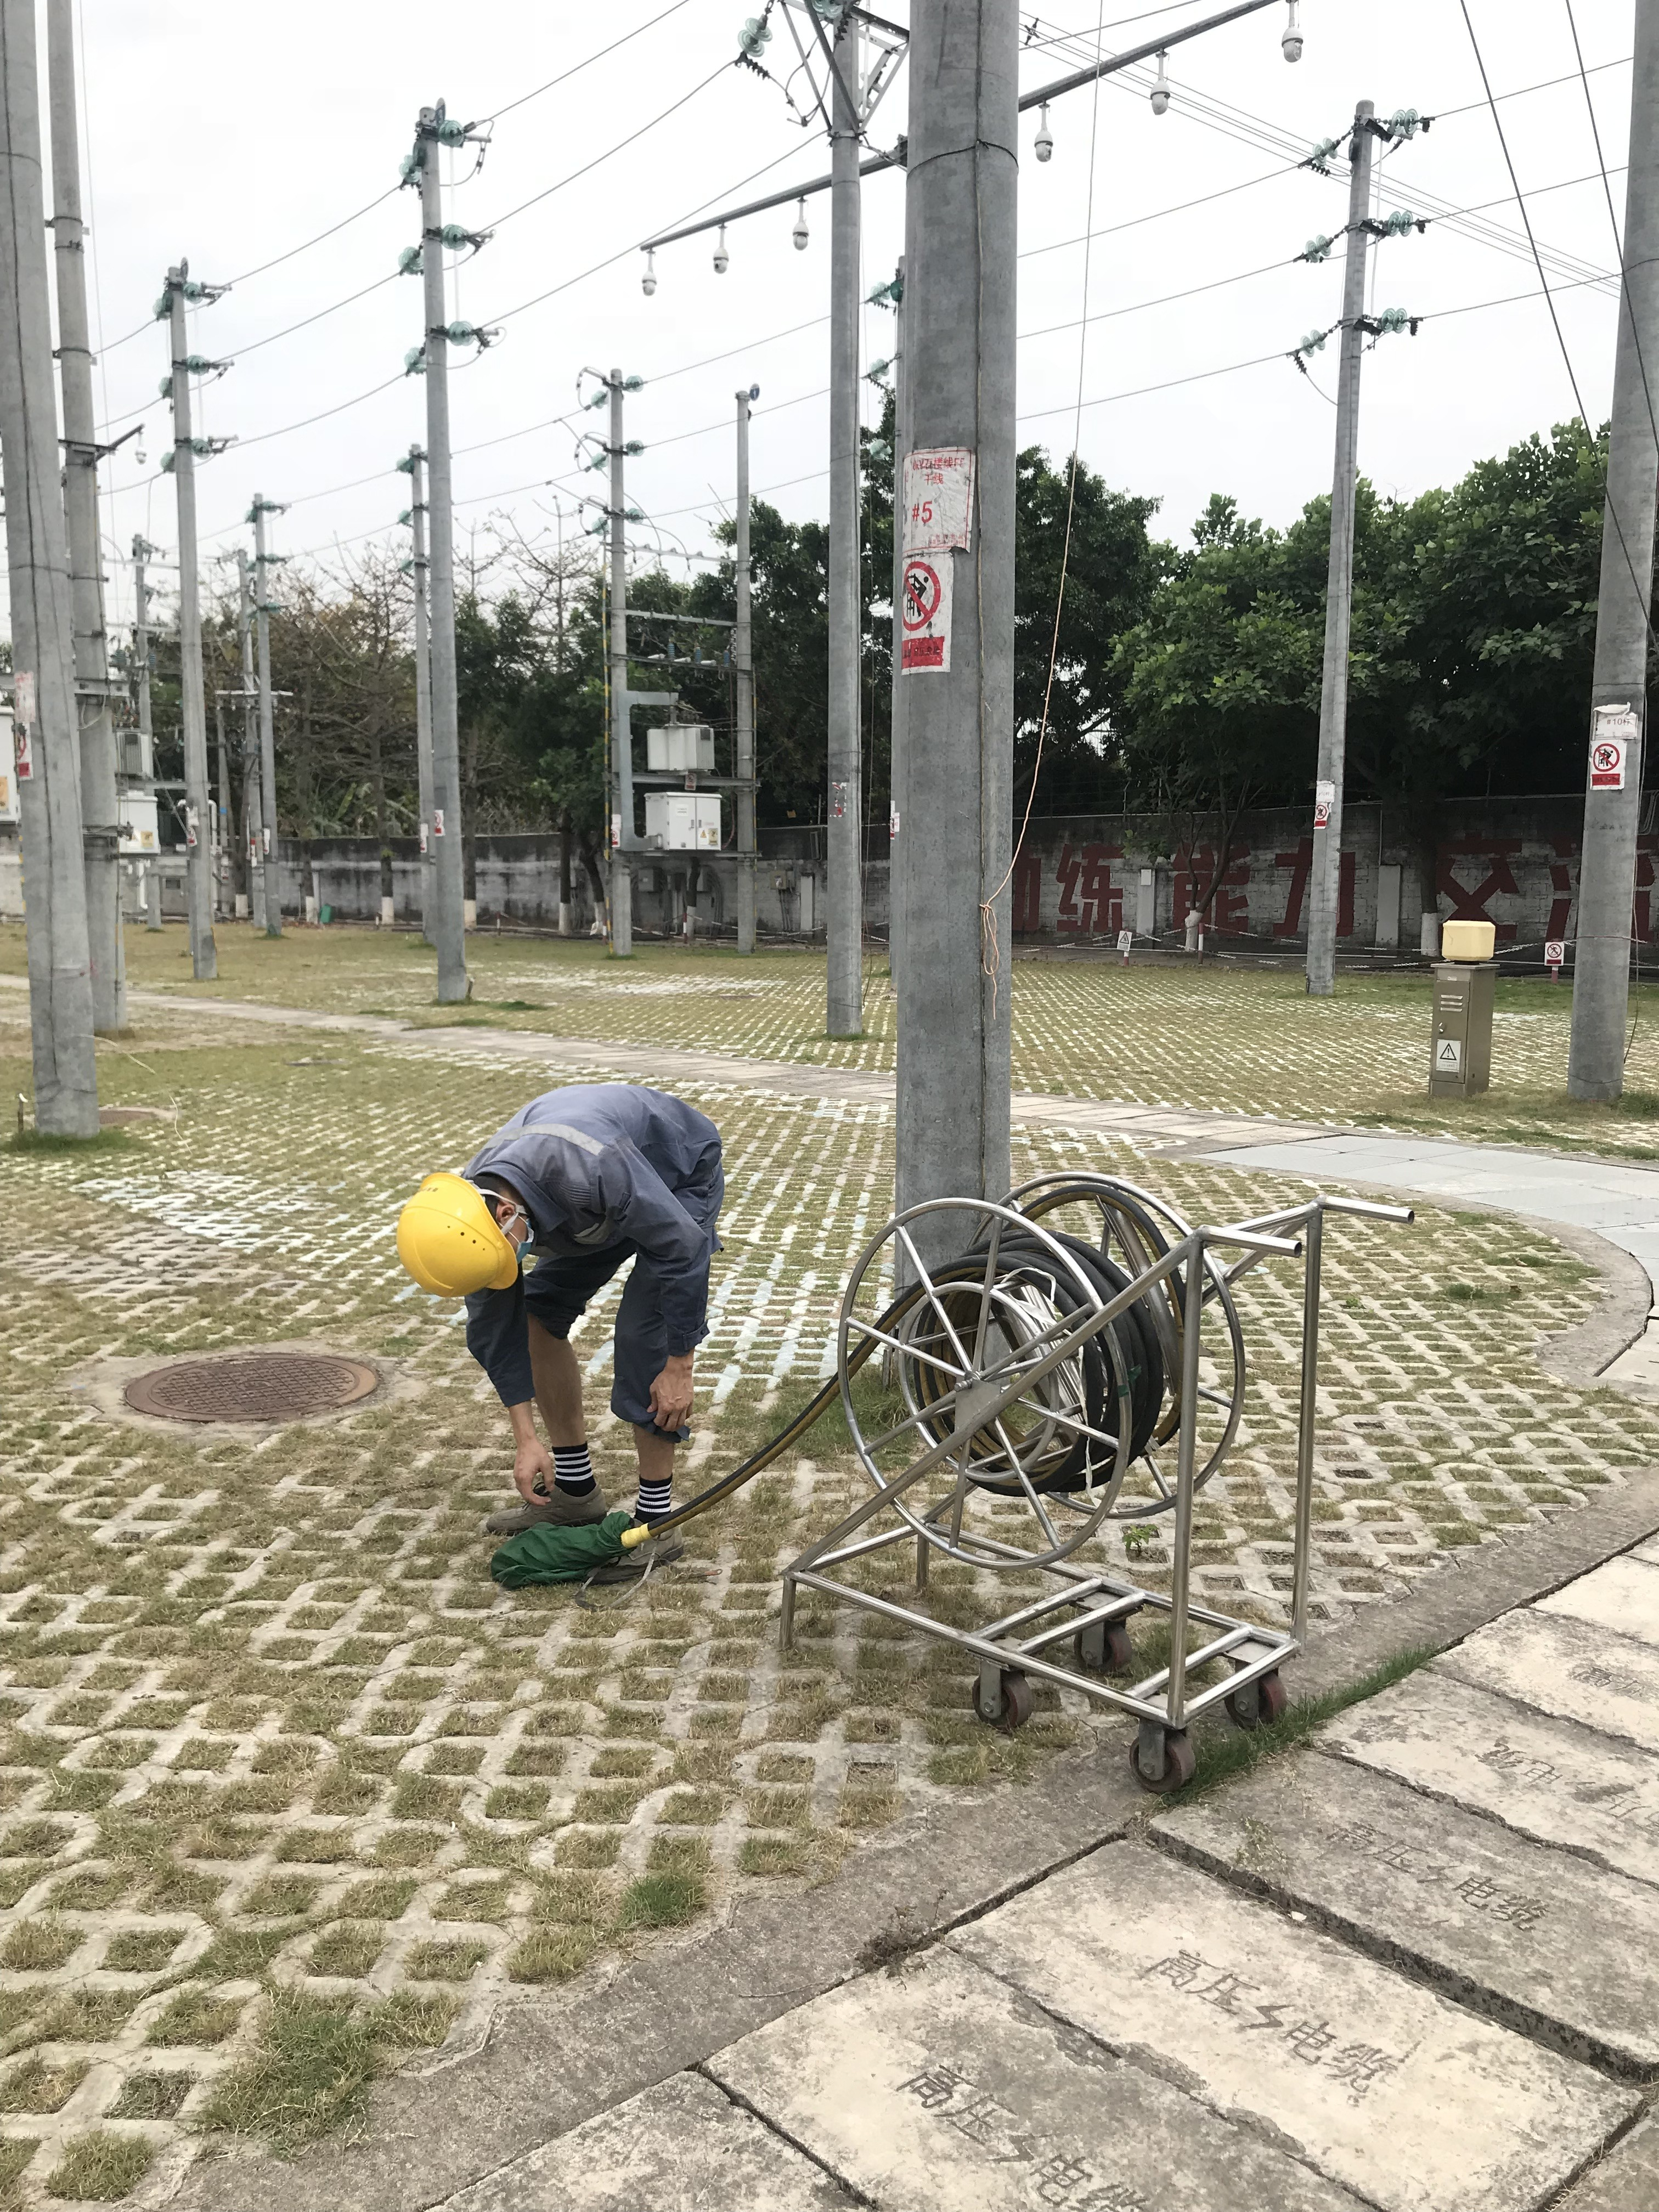downsuit: (626, 1254, 701, 1426)
upsuit: (481, 1080, 718, 1251)
wrongbottom: (493, 1339, 723, 1519)
